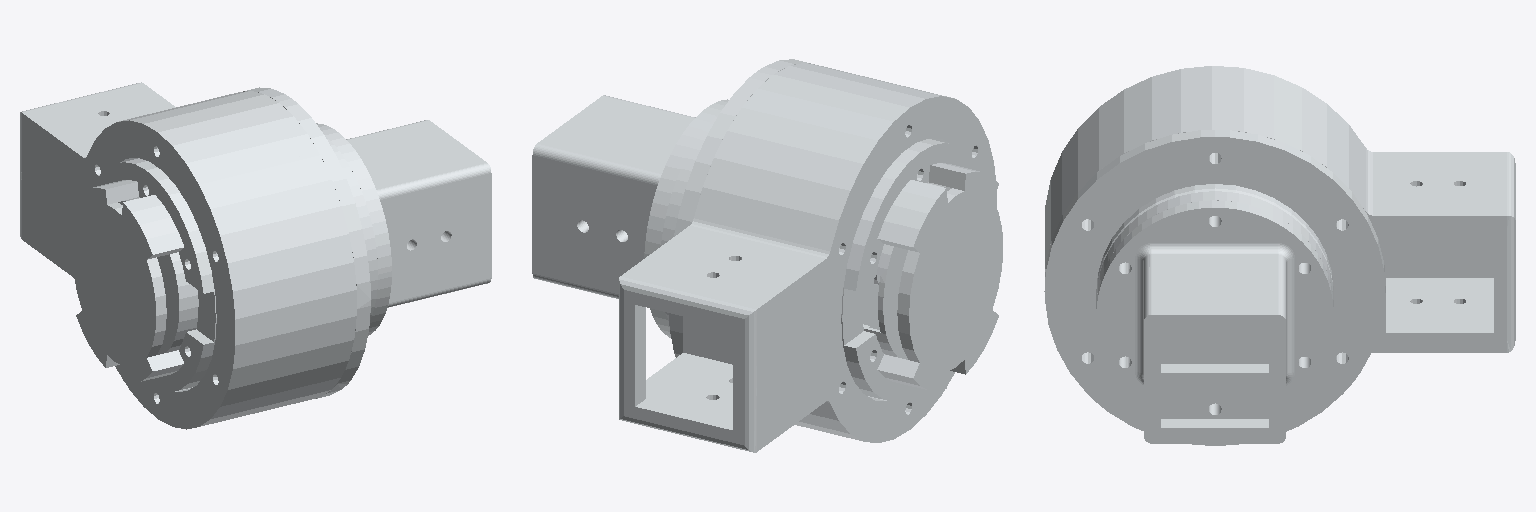
URDF robot description (Assem_4310_JOINT):
<?xml version="1.0" encoding="utf-8"?>
<!-- This URDF was automatically created by SolidWorks to URDF Exporter! Originally created by [author] ([email redacted]) 
     Commit Version: 1.6.0-4-g7f85cfe  Build Version: 1.6.7995.38578
     For more information, please see http://wiki.ros.org/sw_urdf_exporter -->
<robot
  name="Assem_4310_JOINT">
  <link
    name="motor4310_in_link">
    <inertial>
      <origin
        xyz="0.0012212 -4.3571E-06 0.035478"
        rpy="0 0 0" />
      <mass
        value="0.57649" />
      <inertia
        ixx="0.00051876"
        ixy="-5.0519E-08"
        ixz="-5.0469E-06"
        iyy="0.00039258"
        iyz="3.4788E-08"
        izz="0.00029808" />
    </inertial>
    <visual>
      <origin
        xyz="0 0 0"
        rpy="0 0 0" />
      <geometry>
        <mesh
          filename="../meshes/motor4310_in_link.STL" />
      </geometry>
      <material
        name="">
        <color
          rgba="0.89804 0.91765 0.92941 1" />
      </material>
    </visual>
    <collision>
      <origin
        xyz="0 0 0"
        rpy="0 0 0" />
      <geometry>
        <mesh
          filename="../meshes/motor4310_in_link.STL" />
      </geometry>
    </collision>
  </link>
  <link
    name="motor4310_out_link">
    <inertial>
      <origin
        xyz="-2.5332E-10 -0.013691 0.0011054"
        rpy="0 0 0" />
      <mass
        value="0.088545" />
      <inertia
        ixx="2.4599E-05"
        ixy="-3.8934E-22"
        ixz="-1.8263E-21"
        iyy="3.0632E-05"
        iyz="7.8406E-07"
        izz="2.5766E-05" />
    </inertial>
    <visual>
      <origin
        xyz="0 0 0"
        rpy="0 0 0" />
      <geometry>
        <mesh
          filename="../meshes/motor4310_out_link.STL" />
      </geometry>
      <material
        name="">
        <color
          rgba="0.89804 0.91765 0.92941 1" />
      </material>
    </visual>
    <collision>
      <origin
        xyz="0 0 0"
        rpy="0 0 0" />
      <geometry>
        <mesh
          filename="../meshes/motor4310_out_link.STL" />
      </geometry>
    </collision>
  </link>
  <joint
    name="motor4310_rev_joint"
    type="revolute">
    <origin
      xyz="0.0255 -0.0395 0"
      rpy="0 0 1.57" />
    <parent
      link="motor4310_in_link" />
    <child
      link="motor4310_out_link" />
    <axis
      xyz="0 0 1" />
    <limit
      lower="0"
      upper="0"
      effort="0"
      velocity="0" />
  </joint>
</robot>

--- Facts derived from the render (not from the file) ---
3 views of the same robot in one strip: view 1: azimuth 30°, elevation 25°; view 2: azimuth 150°, elevation 25°; view 3: azimuth 270°, elevation 25° (orthographic).
Model Assem_4310_JOINT with 2 links and 1 joints (1 revolute), rooted at motor4310_in_link, posed every joint at zero.
Links seen in each view (by area): view 1: motor4310_in_link, motor4310_out_link; view 2: motor4310_in_link, motor4310_out_link; view 3: motor4310_in_link, motor4310_out_link.
Boxes of the visible links, x1=… form: motor4310_in_link: x1=20, y1=82, x2=370, y2=429; motor4310_out_link: x1=316, y1=120, x2=491, y2=335; motor4310_in_link: x1=619, y1=59, x2=1002, y2=452; motor4310_out_link: x1=532, y1=95, x2=728, y2=337; motor4310_in_link: x1=1044, y1=66, x2=1515, y2=445; motor4310_out_link: x1=1096, y1=191, x2=1333, y2=443.
Size in the robot's own frame: 0.0992 by 0.109 by 0.079 metres.
2 mesh visuals loaded from 2 distinct referenced files (2 binary STL).